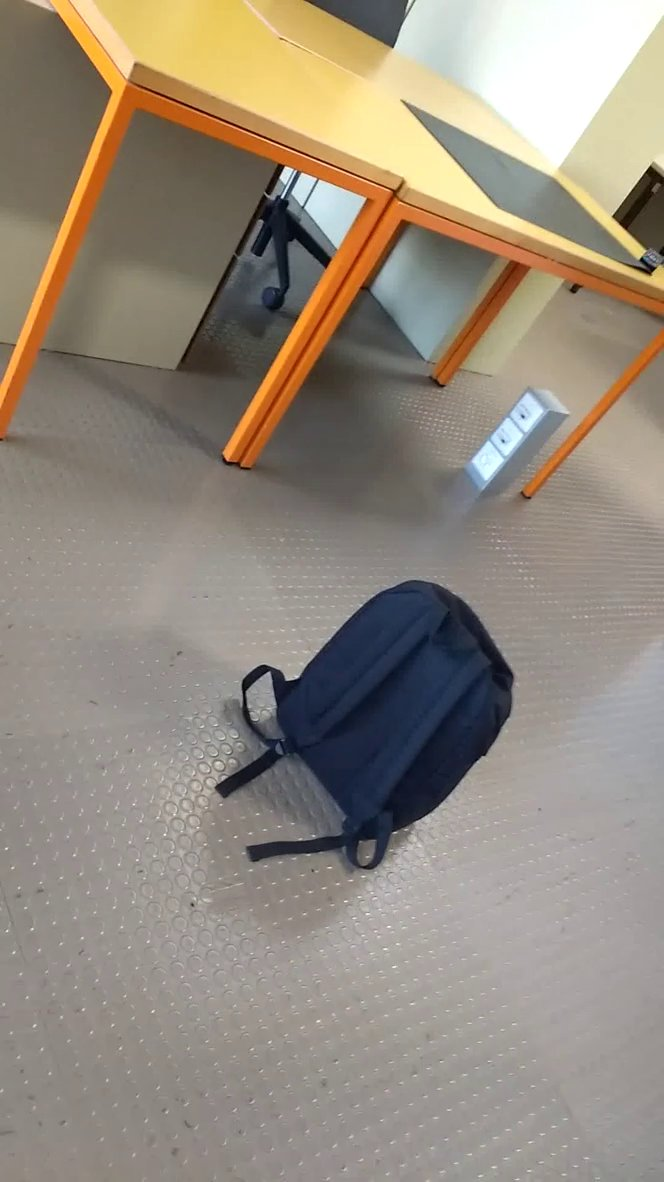bag: (206, 570, 532, 887)
